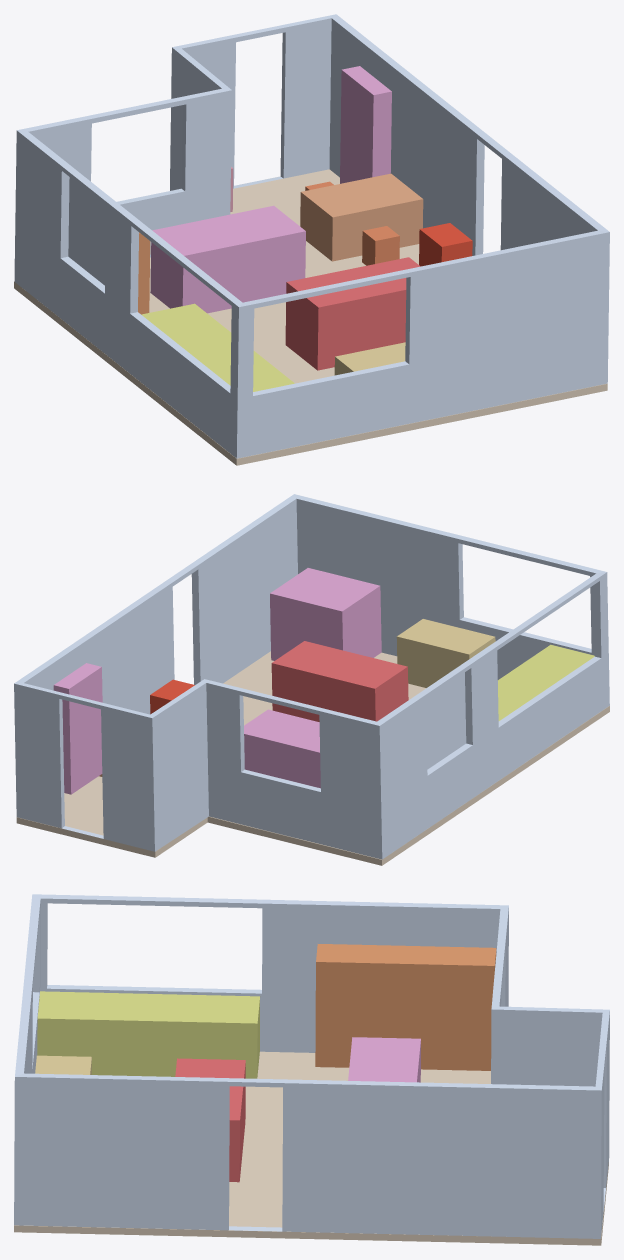
The model's file is atelier-cam.glb.
3 renders of one model, top to bottom at view 1: azimuth 30°, elevation 25°; view 2: azimuth 150°, elevation 25°; view 3: azimuth 270°, elevation 25°, orthographic. The views are drawn at different scales.
Visible parts, largest first — view 1: MUR, SOL, MASTICAGE, ASSEMBALGE, BUREAU, MASTICAGE.001, COLORATION, DECOUPE LASER, TABLE LUMINEUSE, CHAISE, RANGEMENT VERRE; view 2: MUR, FOUR, ASSEMBALGE, SOL, MASTICAGE, MASTICAGE.001, TABLE LUMINEUSE, COLORATION, DECOUPE LASER; view 3: MUR, RANGEMENT VERRE, COLORATION, SOL, MASTICAGE, ASSEMBALGE, TABLE LUMINEUSE.
Part boxes in pixels (x1,y1,x2,y2): MUR: [14, 14, 609, 458]; SOL: [14, 169, 607, 465]; MASTICAGE: [150, 205, 305, 313]; ASSEMBALGE: [285, 257, 420, 370]; BUREAU: [300, 173, 423, 261]; MASTICAGE.001: [340, 66, 391, 183]; COLORATION: [141, 303, 294, 391]; DECOUPE LASER: [419, 223, 472, 266]; TABLE LUMINEUSE: [334, 342, 405, 375]; CHAISE: [362, 226, 399, 265]; RANGEMENT VERRE: [138, 232, 150, 314]; MUR: [14, 494, 609, 859]; FOUR: [270, 568, 381, 660]; ASSEMBALGE: [271, 641, 408, 721]; SOL: [16, 651, 609, 865]; MASTICAGE: [244, 709, 320, 788]; MASTICAGE.001: [53, 663, 102, 794]; TABLE LUMINEUSE: [396, 619, 495, 687]; COLORATION: [498, 644, 594, 720]; DECOUPE LASER: [150, 679, 194, 714]; MUR: [14, 894, 609, 1238]; RANGEMENT VERRE: [315, 944, 496, 1070]; COLORATION: [37, 991, 260, 1078]; SOL: [14, 1051, 608, 1245]; MASTICAGE: [348, 1037, 420, 1082]; ASSEMBALGE: [175, 1058, 245, 1182]; TABLE LUMINEUSE: [35, 1055, 91, 1074].
Bounding box in the file's own units: 6.45 × 2.67 × 8.66.
